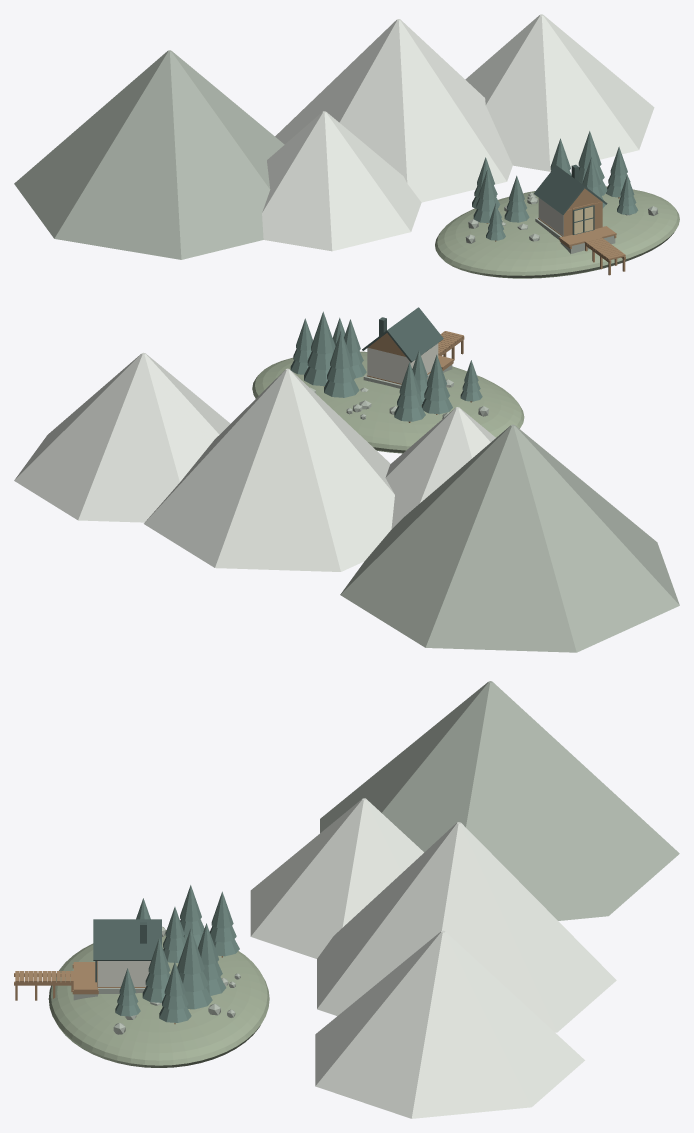
Rendered from refuge-walkthrough.glb.
3 views of the same model, one above another, from view 1: azimuth 30°, elevation 25°; view 2: azimuth 150°, elevation 25°; view 3: azimuth 270°, elevation 25° (orthographic). The views are drawn at different scales.
Parts seen in each view (by area): view 1: Scandinavian ridge.007, Scandinavian ridge.005, Scandinavian ridge.006, Scandinavian ridge.004, Quiet island.001, Folded roof.002, Left wall, Porch deck, Nordic spruce.032; view 2: Scandinavian ridge.007, Scandinavian ridge.005, Scandinavian ridge.006, Quiet island.001, Scandinavian ridge.004, Folded roof.002, Back wall, Nordic spruce.032; view 3: Scandinavian ridge.007, Scandinavian ridge.006, Scandinavian ridge.005, Scandinavian ridge.004, Quiet island.001, Folded roof.003, Right wall, Nordic spruce.032, Porch deck.
Boxes of the visible parts, bbox=[...] form: Scandinavian ridge.007: bbox=[14, 50, 284, 259]; Scandinavian ridge.005: bbox=[275, 19, 512, 202]; Scandinavian ridge.006: bbox=[465, 14, 654, 171]; Scandinavian ridge.004: bbox=[262, 111, 421, 251]; Quiet island.001: bbox=[435, 186, 679, 278]; Folded roof.002: bbox=[533, 165, 585, 214]; Left wall: bbox=[538, 198, 563, 235]; Porch deck: bbox=[559, 226, 616, 246]; Nordic spruce.032: bbox=[578, 131, 601, 168]; Scandinavian ridge.007: bbox=[340, 424, 679, 652]; Scandinavian ridge.005: bbox=[144, 368, 394, 571]; Scandinavian ridge.006: bbox=[14, 352, 230, 522]; Quiet island.001: bbox=[252, 351, 524, 453]; Scandinavian ridge.004: bbox=[385, 407, 495, 528]; Folded roof.002: bbox=[386, 307, 443, 362]; Back wall: bbox=[367, 348, 410, 383]; Nordic spruce.032: bbox=[311, 311, 335, 354]; Scandinavian ridge.007: bbox=[320, 681, 679, 920]; Scandinavian ridge.006: bbox=[315, 930, 584, 1118]; Scandinavian ridge.005: bbox=[317, 822, 616, 1032]; Scandinavian ridge.004: bbox=[250, 798, 423, 958]; Quiet island.001: bbox=[48, 930, 269, 1067]; Folded roof.003: bbox=[93, 919, 161, 960]; Right wall: bbox=[97, 961, 150, 986]; Nordic spruce.032: bbox=[177, 928, 204, 974]; Porch deck: bbox=[73, 962, 97, 991].
Size of what is drawn, in the model's own units: 51.47 by 13.25 by 42.2.
